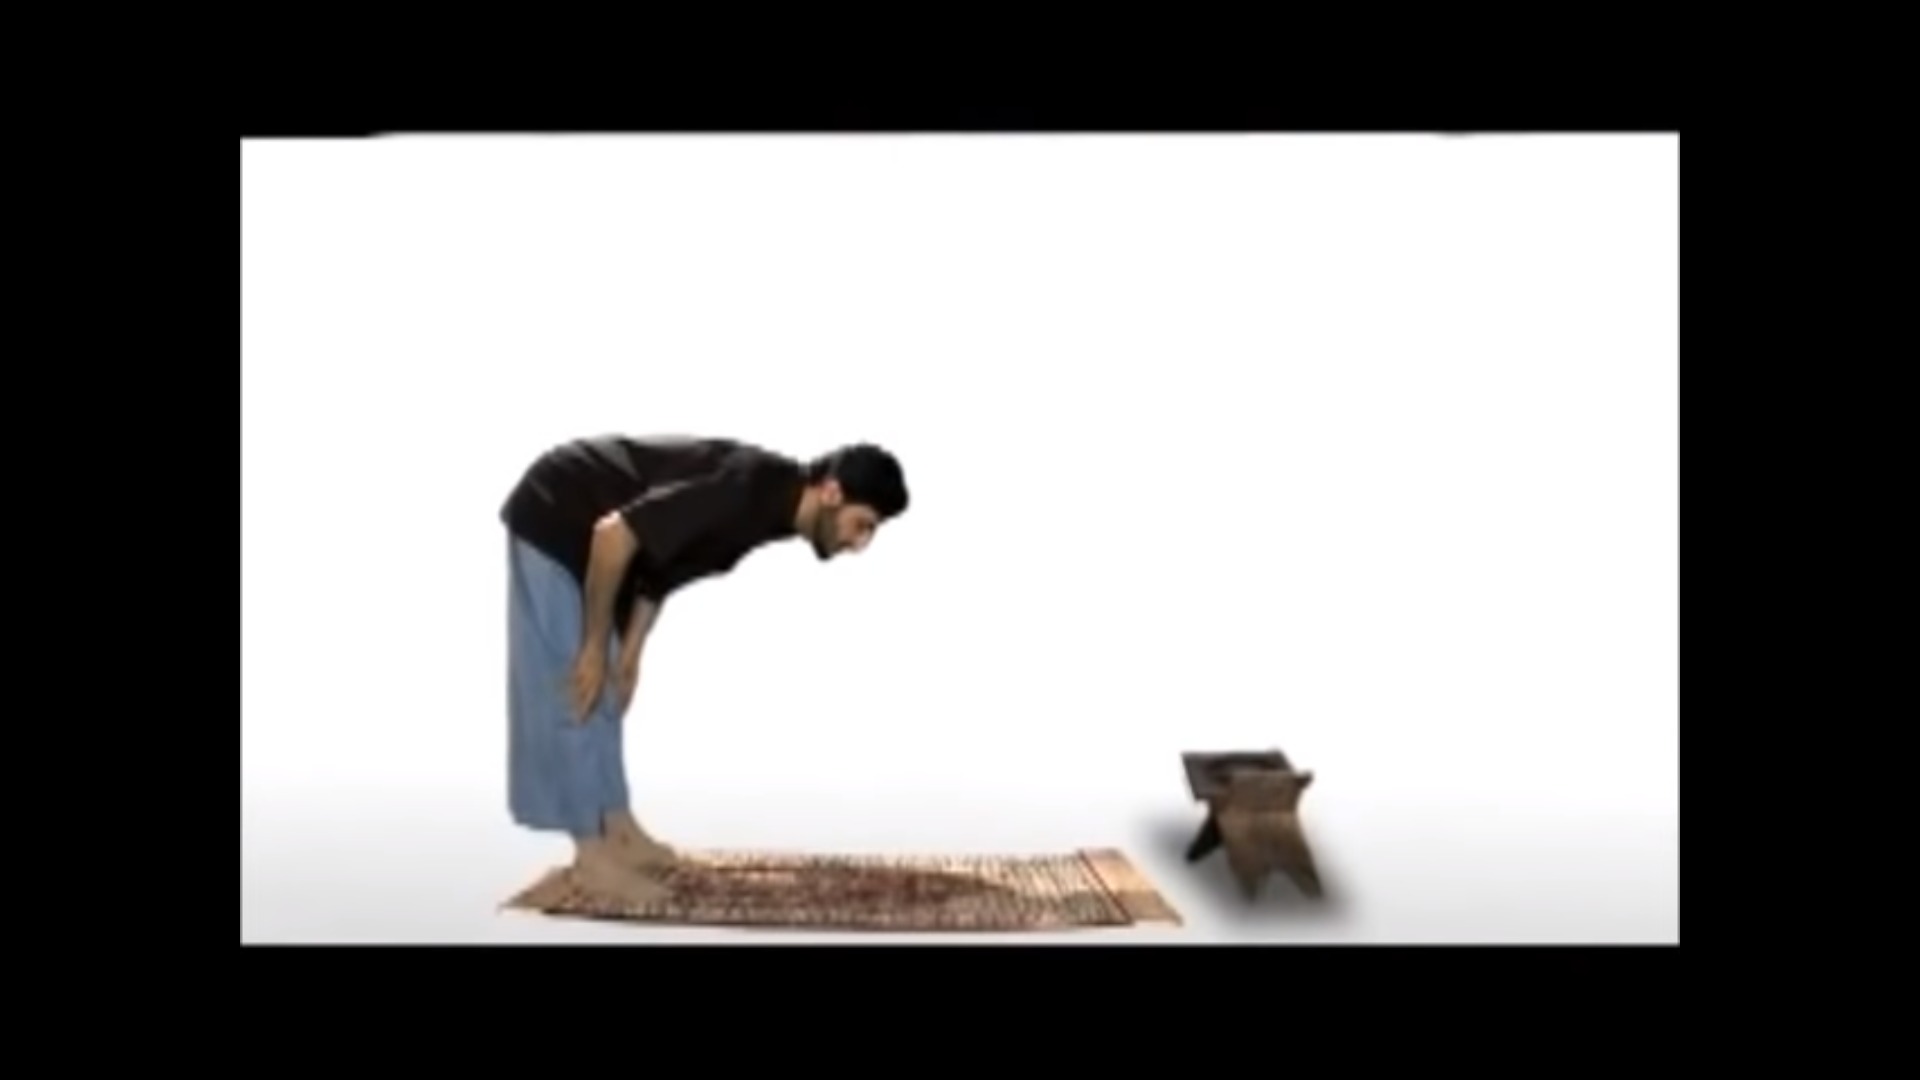ruku: (372, 314, 952, 971)
